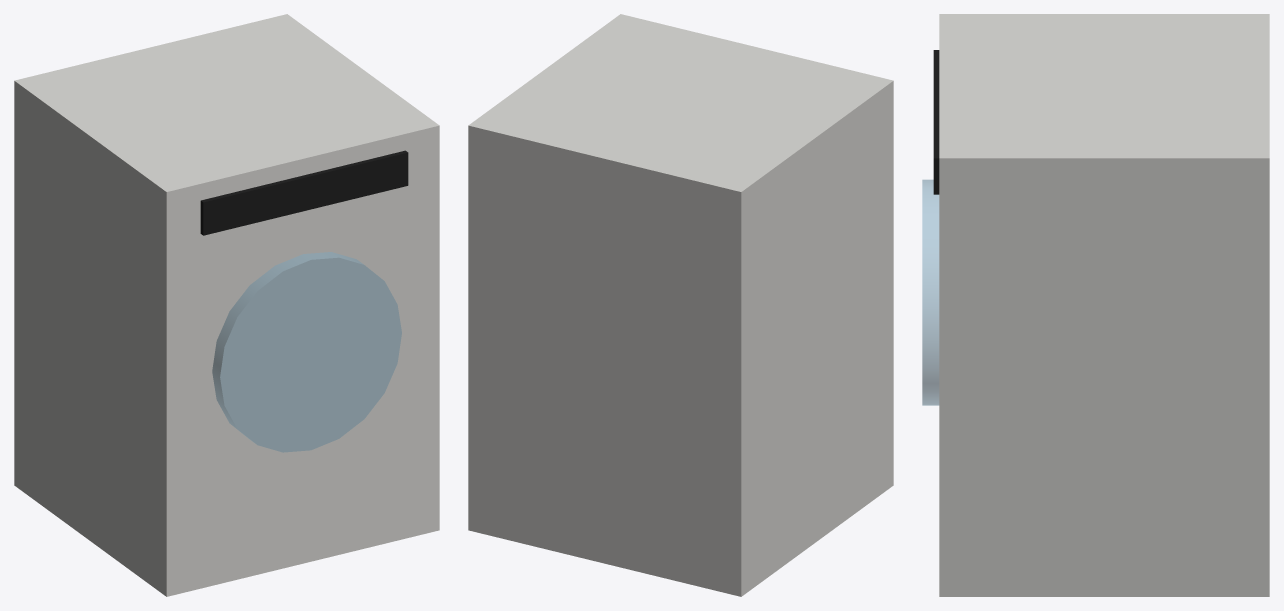
The model's file is washing-machine.glb.
3 renders of one model, left to right at view 1: azimuth 30°, elevation 25°; view 2: azimuth 150°, elevation 25°; view 3: azimuth 270°, elevation 25°, orthographic. The views are drawn at different scales.
Visible parts, largest first — view 1: washing-machine; view 2: washing-machine; view 3: washing-machine.
Part boxes in pixels (bbox=[...]): washing-machine: bbox=[14, 14, 439, 596]; washing-machine: bbox=[468, 14, 893, 596]; washing-machine: bbox=[922, 14, 1269, 596].
Size of the model in its own units: 0.6 by 0.85 by 0.61.
